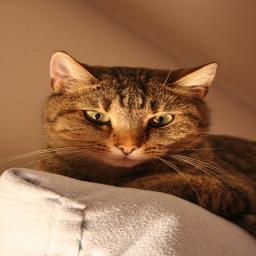catnose: (117, 143, 139, 155)
